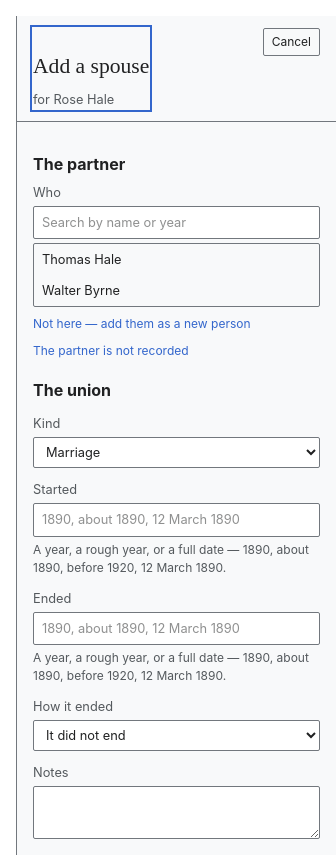
it: what the form does with the answer › shows a failure that belongs to no single field
What coordinates should you click on to do the following:
click the button "Thomas Hale"
I would click on:
 (82, 260)
Its box is [34,244,319,275].
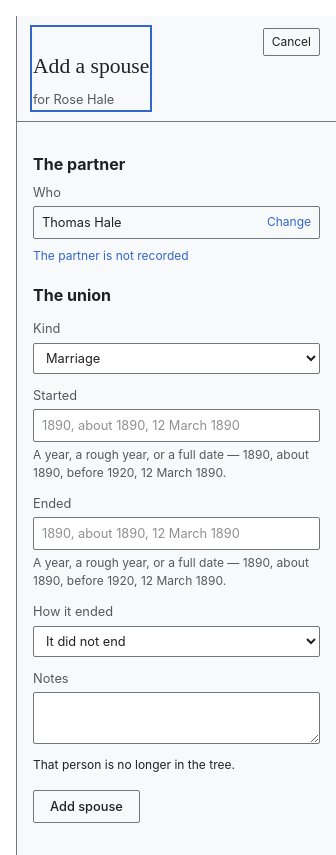
Check: the text "no longer in the tree" is shown, box [33,757,235,772]
